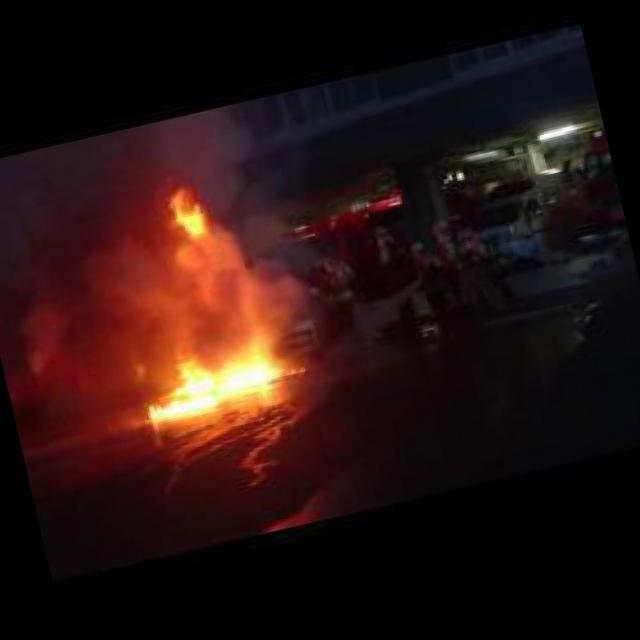fire: (138, 338, 288, 424), (165, 188, 207, 238)
smoke: (8, 210, 322, 397)
